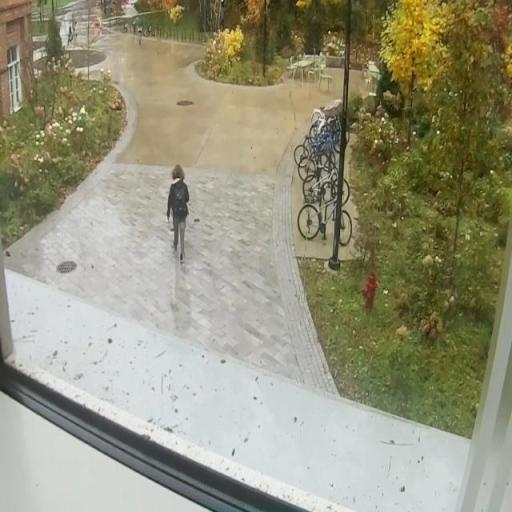pessoa: (167, 161, 190, 265)
